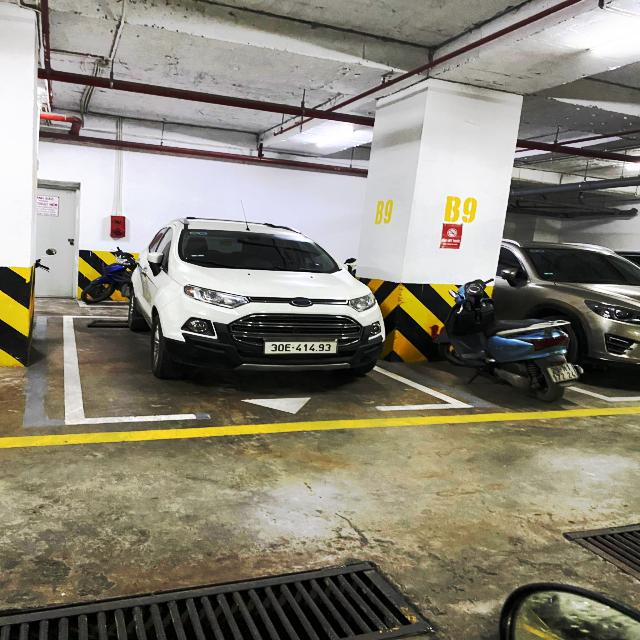license_plate: (262, 342, 341, 356)
